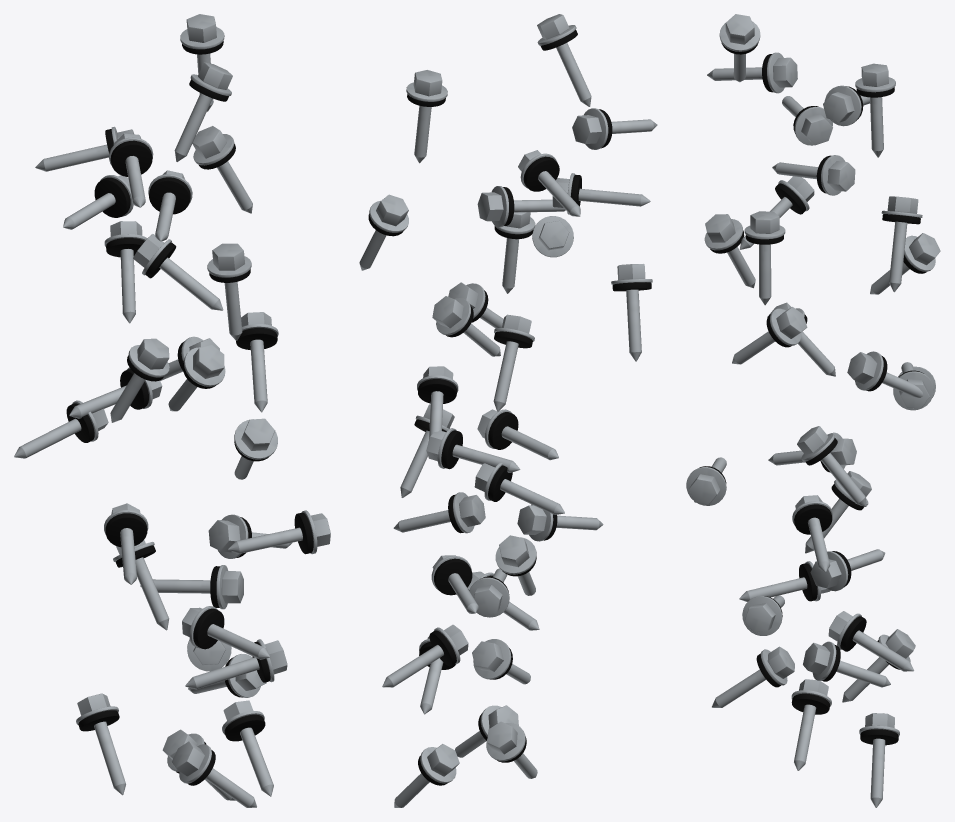
File: COB-ACS-002_anim.glb
3 renders of one model, left to right at view 1: azimuth 30°, elevation 25°; view 2: azimuth 150°, elevation 25°; view 3: azimuth 270°, elevation 25°, orthographic. The views are drawn at different scales.
Visible parts, largest first — view 1: COB-ACS-002_anim21, COB-ACS-002_anim12, COB-ACS-002_anim3, COB-ACS-002_anim19, COB-ACS-002_anim1, COB-ACS-002_anim23, COB-ACS-002_anim7, COB-ACS-002_anim29, COB-ACS-002_anim2, COB-ACS-002_anim18, COB-ACS-002_anim22, COB-ACS-002_anim20 (+18 smaller); view 2: COB-ACS-002_anim10, COB-ACS-002_anim5, COB-ACS-002_anim28, COB-ACS-002_anim12, COB-ACS-002_anim17, COB-ACS-002_anim27, COB-ACS-002_anim29, COB-ACS-002_anim26, COB-ACS-002_anim0, COB-ACS-002_anim20, COB-ACS-002_anim15, COB-ACS-002_anim23 (+18 smaller); view 3: COB-ACS-002_anim3, COB-ACS-002_anim0, COB-ACS-002_anim21, COB-ACS-002_anim5, COB-ACS-002_anim28, COB-ACS-002_anim1, COB-ACS-002_anim13, COB-ACS-002_anim4, COB-ACS-002_anim18, COB-ACS-002_anim24, COB-ACS-002_anim19, COB-ACS-002_anim23 (+17 smaller).
Boxes of the visible parts, left/top/right/bottom form: COB-ACS-002_anim21: left=207, top=243, right=251, bottom=340; COB-ACS-002_anim12: left=228, top=510, right=330, bottom=554; COB-ACS-002_anim3: left=222, top=700, right=273, bottom=796; COB-ACS-002_anim19: left=110, top=338, right=169, bottom=422; COB-ACS-002_anim1: left=172, top=741, right=256, bottom=807; COB-ACS-002_anim23: left=192, top=126, right=252, bottom=213; COB-ACS-002_anim7: left=182, top=606, right=269, bottom=659; COB-ACS-002_anim29: left=174, top=62, right=232, bottom=161; COB-ACS-002_anim2: left=76, top=693, right=125, bottom=795; COB-ACS-002_anim18: left=236, top=312, right=278, bottom=412; COB-ACS-002_anim22: left=133, top=234, right=223, bottom=310; COB-ACS-002_anim20: left=104, top=221, right=147, bottom=323; COB-ACS-002_anim10: left=393, top=492, right=485, bottom=533; COB-ACS-002_anim5: left=382, top=624, right=468, bottom=687; COB-ACS-002_anim28: left=406, top=70, right=447, bottom=163; COB-ACS-002_anim12: left=477, top=409, right=558, bottom=460; COB-ACS-002_anim17: left=493, top=314, right=534, bottom=411; COB-ACS-002_anim27: left=572, top=108, right=657, bottom=149; COB-ACS-002_anim29: left=537, top=14, right=591, bottom=106; COB-ACS-002_anim26: left=518, top=150, right=580, bottom=216; COB-ACS-002_anim0: left=394, top=744, right=459, bottom=807; COB-ACS-002_anim20: left=432, top=296, right=500, bottom=356; COB-ACS-002_anim15: left=426, top=428, right=520, bottom=472; COB-ACS-002_anim23: left=359, top=194, right=408, bottom=270; COB-ACS-002_anim3: left=712, top=646, right=794, bottom=707; COB-ACS-002_anim0: left=859, top=713, right=899, bottom=807; COB-ACS-002_anim21: left=744, top=211, right=785, bottom=305; COB-ACS-002_anim5: left=828, top=611, right=913, bottom=671; COB-ACS-002_anim28: left=855, top=63, right=895, bottom=157; COB-ACS-002_anim1: left=791, top=679, right=831, bottom=770; COB-ACS-002_anim13: left=797, top=426, right=866, bottom=506; COB-ACS-002_anim4: left=803, top=641, right=890, bottom=687; COB-ACS-002_anim18: left=732, top=307, right=807, bottom=364; COB-ACS-002_anim24: left=772, top=155, right=855, bottom=195; COB-ACS-002_anim19: left=704, top=214, right=755, bottom=288; COB-ACS-002_anim23: left=881, top=196, right=922, bottom=292.
Bounding box in the file's own units: 0.1043 × 0.323 × 0.0995.
2 materials, 2 textured.
